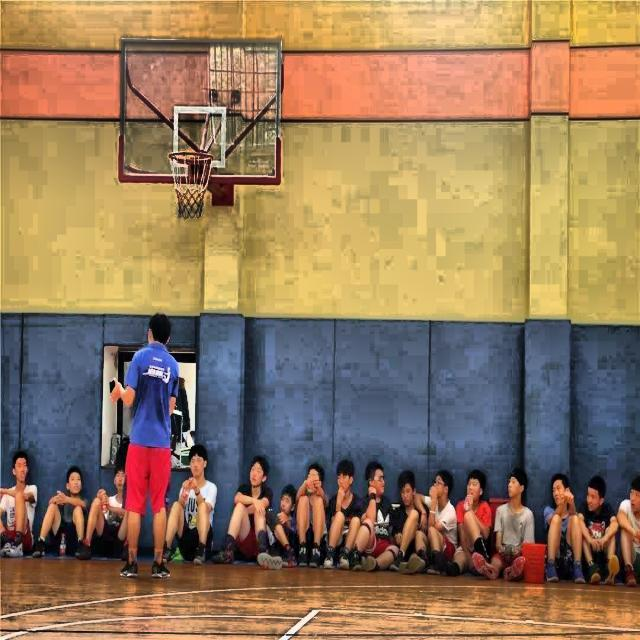rim: (169, 150, 213, 220)
